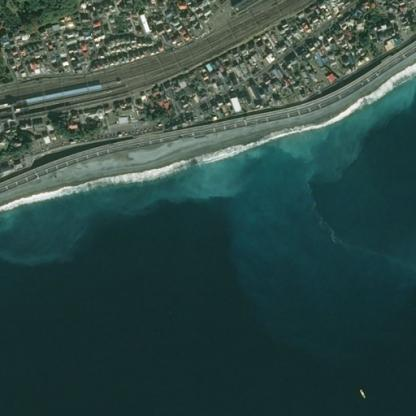ship: (354, 384, 370, 403)
